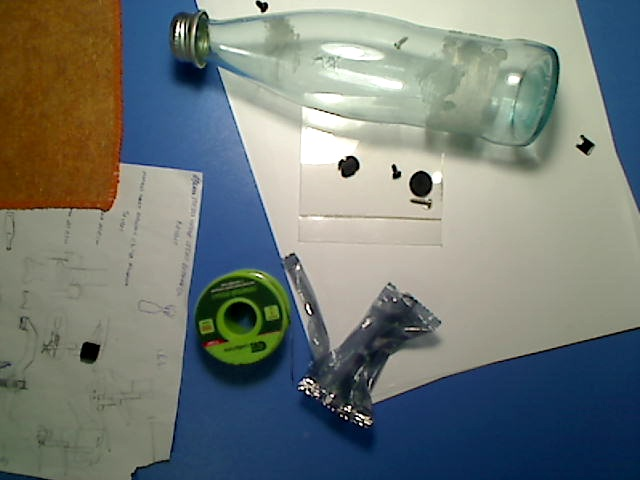bottle: (169, 9, 562, 148)
